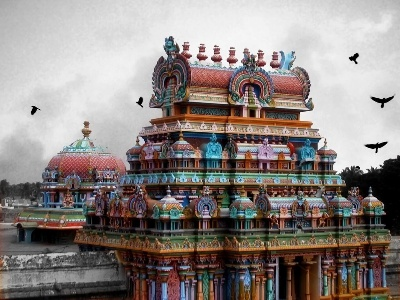gopura: (89, 40, 384, 263)
